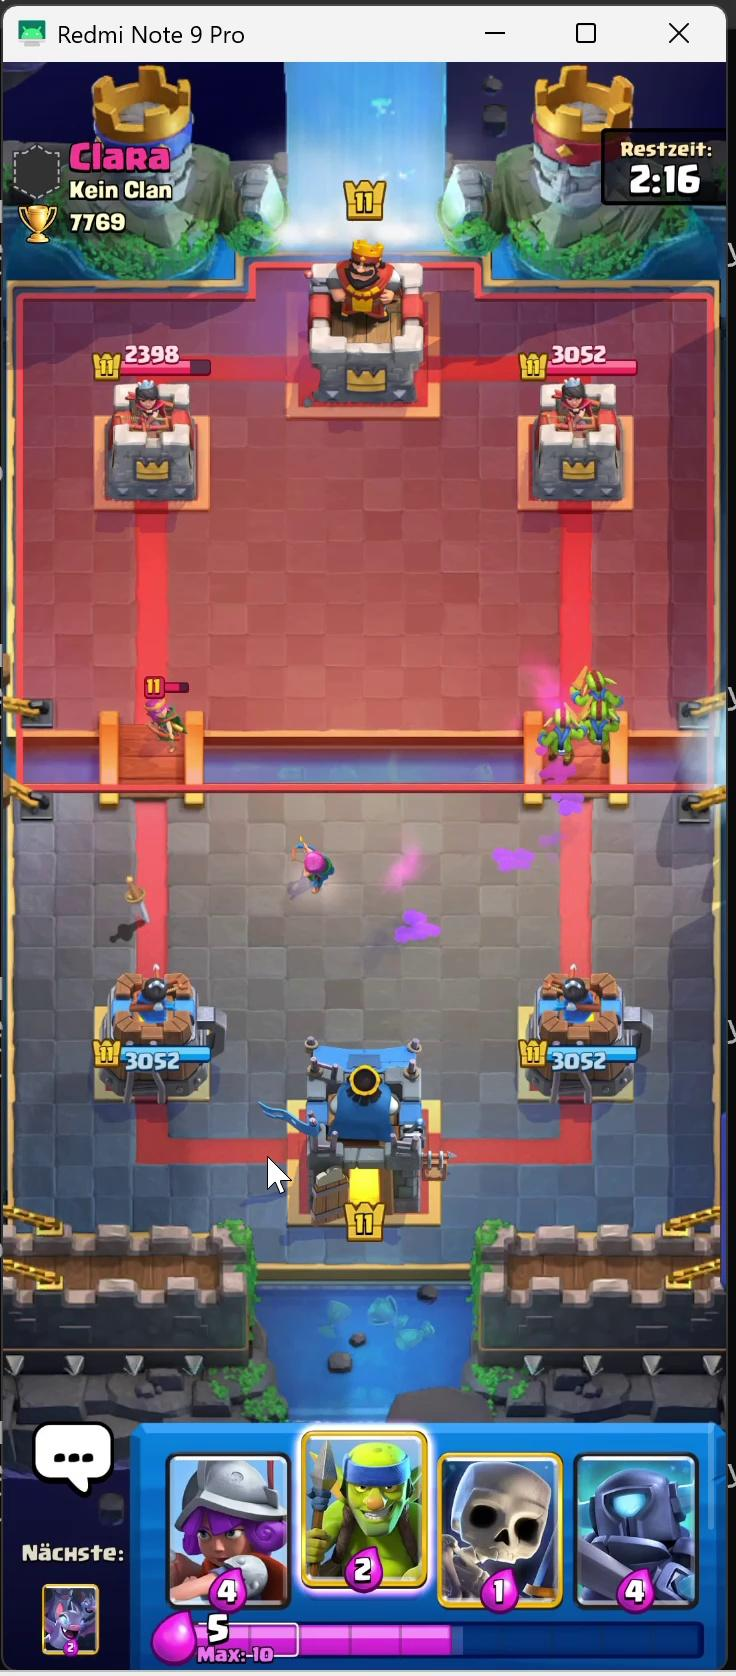archere: (143, 682, 182, 742), (301, 836, 336, 895)
gobelin: (546, 701, 581, 761), (584, 703, 628, 751), (576, 664, 612, 705)
